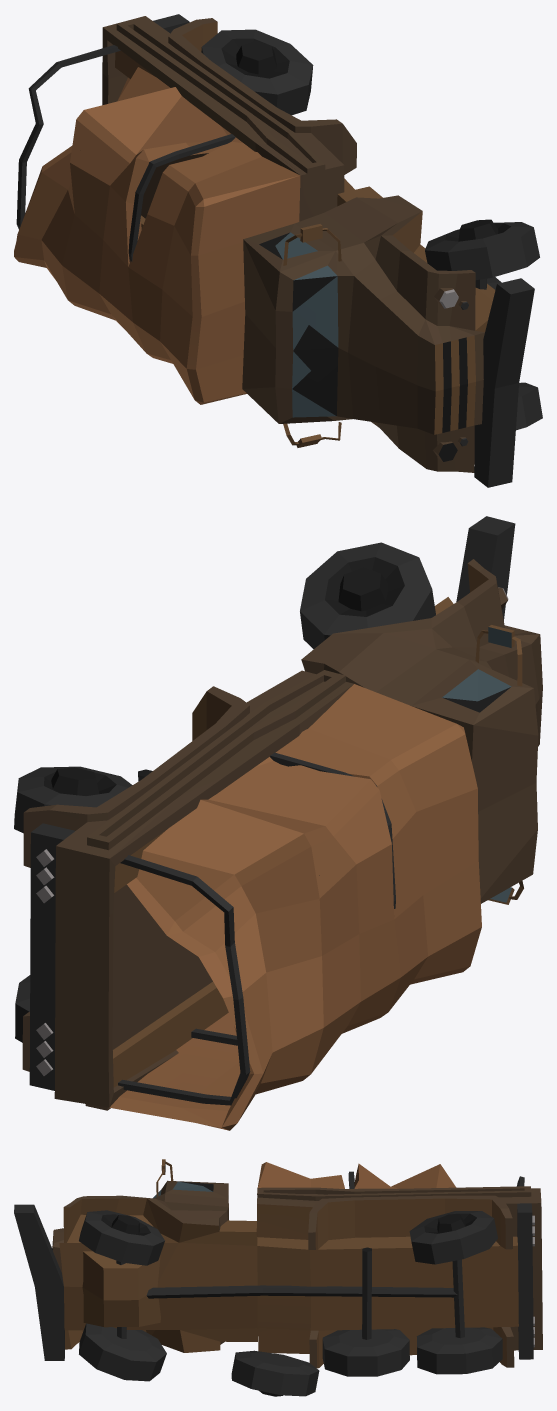
File: apocalypse_military-truck-apocalypse.fbx
3 views of the same model, one above another, from view 1: azimuth 30°, elevation 25°; view 2: azimuth 150°, elevation 25°; view 3: azimuth 270°, elevation 25° (orthographic). The views are drawn at different scales.
Parts seen in each view (by area): view 1: military_truck_apocalypse_military_truck_apocalypse_base, military_truck_apocalypse_military_truck_apocalypse_cover, military_truck_apocalypse_military_truck_apocalypse_wheel_lr, military_truck_apocalypse_military_truck_apocalypse_wheel_fl, military_truck_apocalypse_military_truck_apocalypse_wheel_fr; view 2: military_truck_apocalypse_military_truck_apocalypse_base, military_truck_apocalypse_military_truck_apocalypse_cover, military_truck_apocalypse_military_truck_apocalypse_wheel_fl, military_truck_apocalypse_military_truck_apocalypse_wheel_lr; view 3: military_truck_apocalypse_military_truck_apocalypse_base, military_truck_apocalypse_military_truck_apocalypse_wheel_br (×2), military_truck_apocalypse_military_truck_apocalypse_wheel_lr (×2), military_truck_apocalypse_military_truck_apocalypse_wheel_fr, military_truck_apocalypse_military_truck_apocalypse_wheel_fl, military_truck_apocalypse_military_truck_apocalypse_cover.
Boxes of the visible parts, x1,y1,x2,y2 form: military_truck_apocalypse_military_truck_apocalypse_base: [16, 14, 534, 487]; military_truck_apocalypse_military_truck_apocalypse_cover: [14, 67, 300, 404]; military_truck_apocalypse_military_truck_apocalypse_wheel_lr: [201, 29, 313, 115]; military_truck_apocalypse_military_truck_apocalypse_wheel_fl: [425, 219, 539, 279]; military_truck_apocalypse_military_truck_apocalypse_wheel_fr: [516, 382, 542, 430]; military_truck_apocalypse_military_truck_apocalypse_base: [22, 516, 542, 1110]; military_truck_apocalypse_military_truck_apocalypse_cover: [109, 684, 481, 1130]; military_truck_apocalypse_military_truck_apocalypse_wheel_fl: [300, 542, 435, 649]; military_truck_apocalypse_military_truck_apocalypse_wheel_lr: [14, 766, 132, 833]; military_truck_apocalypse_military_truck_apocalypse_base: [14, 1159, 542, 1368]; military_truck_apocalypse_military_truck_apocalypse_wheel_br (×2): [322, 1327, 502, 1376]; military_truck_apocalypse_military_truck_apocalypse_wheel_lr (×2): [231, 1211, 497, 1396]; military_truck_apocalypse_military_truck_apocalypse_wheel_fr: [79, 1323, 166, 1381]; military_truck_apocalypse_military_truck_apocalypse_wheel_fl: [79, 1210, 164, 1265]; military_truck_apocalypse_military_truck_apocalypse_cover: [257, 1162, 456, 1188].
Size of the model in its own units: 99.68 by 67.47 by 200.
